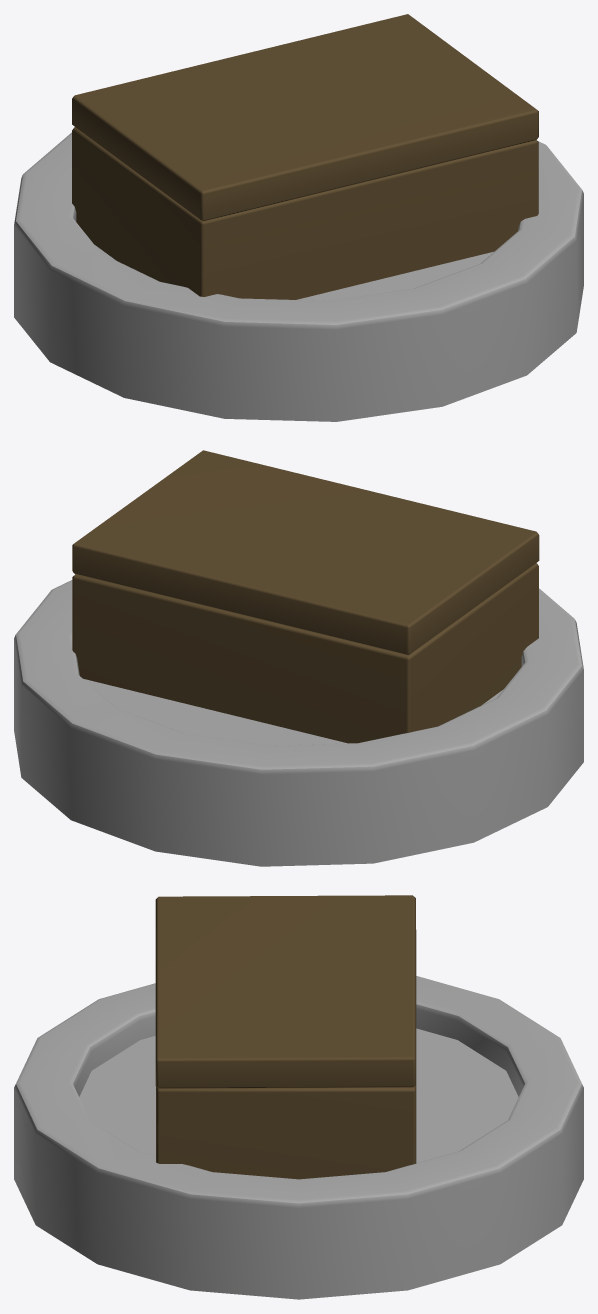
Rendered from MapDeactivatedNodes_Box.fbx.
3 renders of one model, top to bottom at view 1: azimuth 30°, elevation 25°; view 2: azimuth 150°, elevation 25°; view 3: azimuth 270°, elevation 25°, orthographic.
Visible parts, largest first — view 1: DeactivatedNodes_Box; view 2: DeactivatedNodes_Box; view 3: DeactivatedNodes_Box.
Part boxes in pixels (left/top/right/bottom): DeactivatedNodes_Box: left=14, top=14, right=583, bottom=421; DeactivatedNodes_Box: left=14, top=450, right=583, bottom=866; DeactivatedNodes_Box: left=14, top=895, right=583, bottom=1299.
Bounding box in the file's own units: 2 × 0.7864 × 2.
